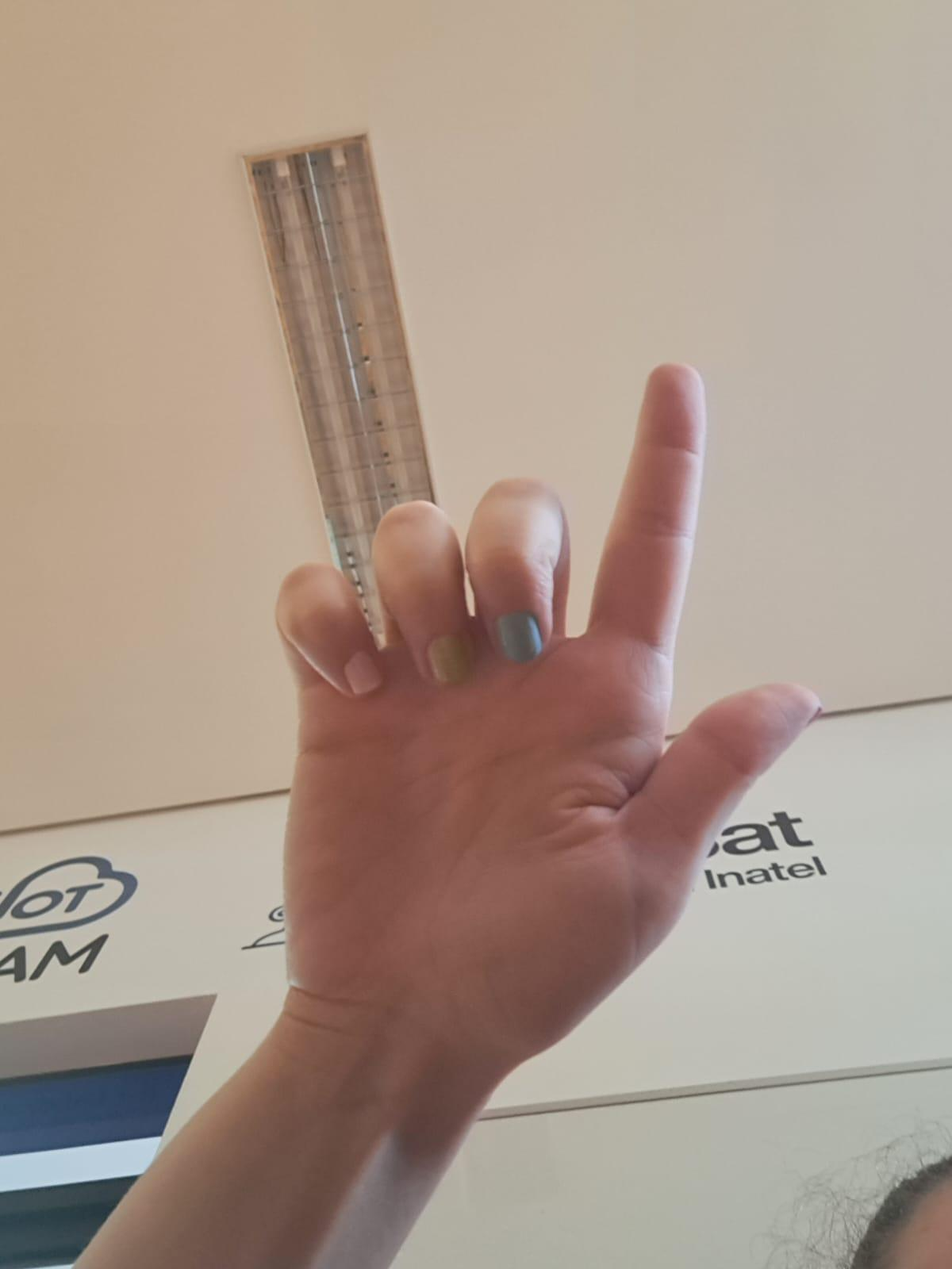G: (210, 357, 821, 1095)
